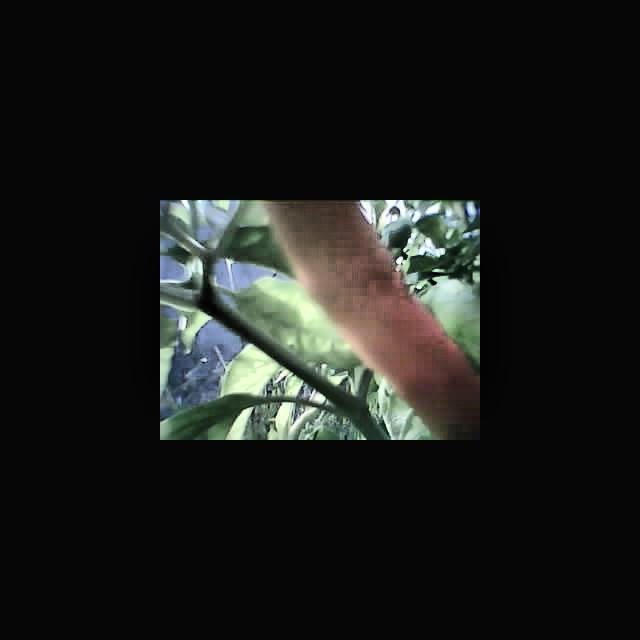Cabai: (321, 201, 478, 424)
